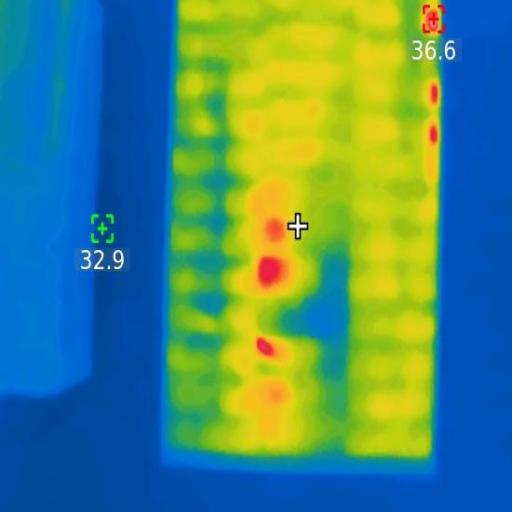hotspot: (257, 250, 289, 292), (419, 3, 451, 37), (252, 336, 280, 361), (266, 221, 288, 243), (426, 122, 442, 146), (428, 85, 440, 107)
